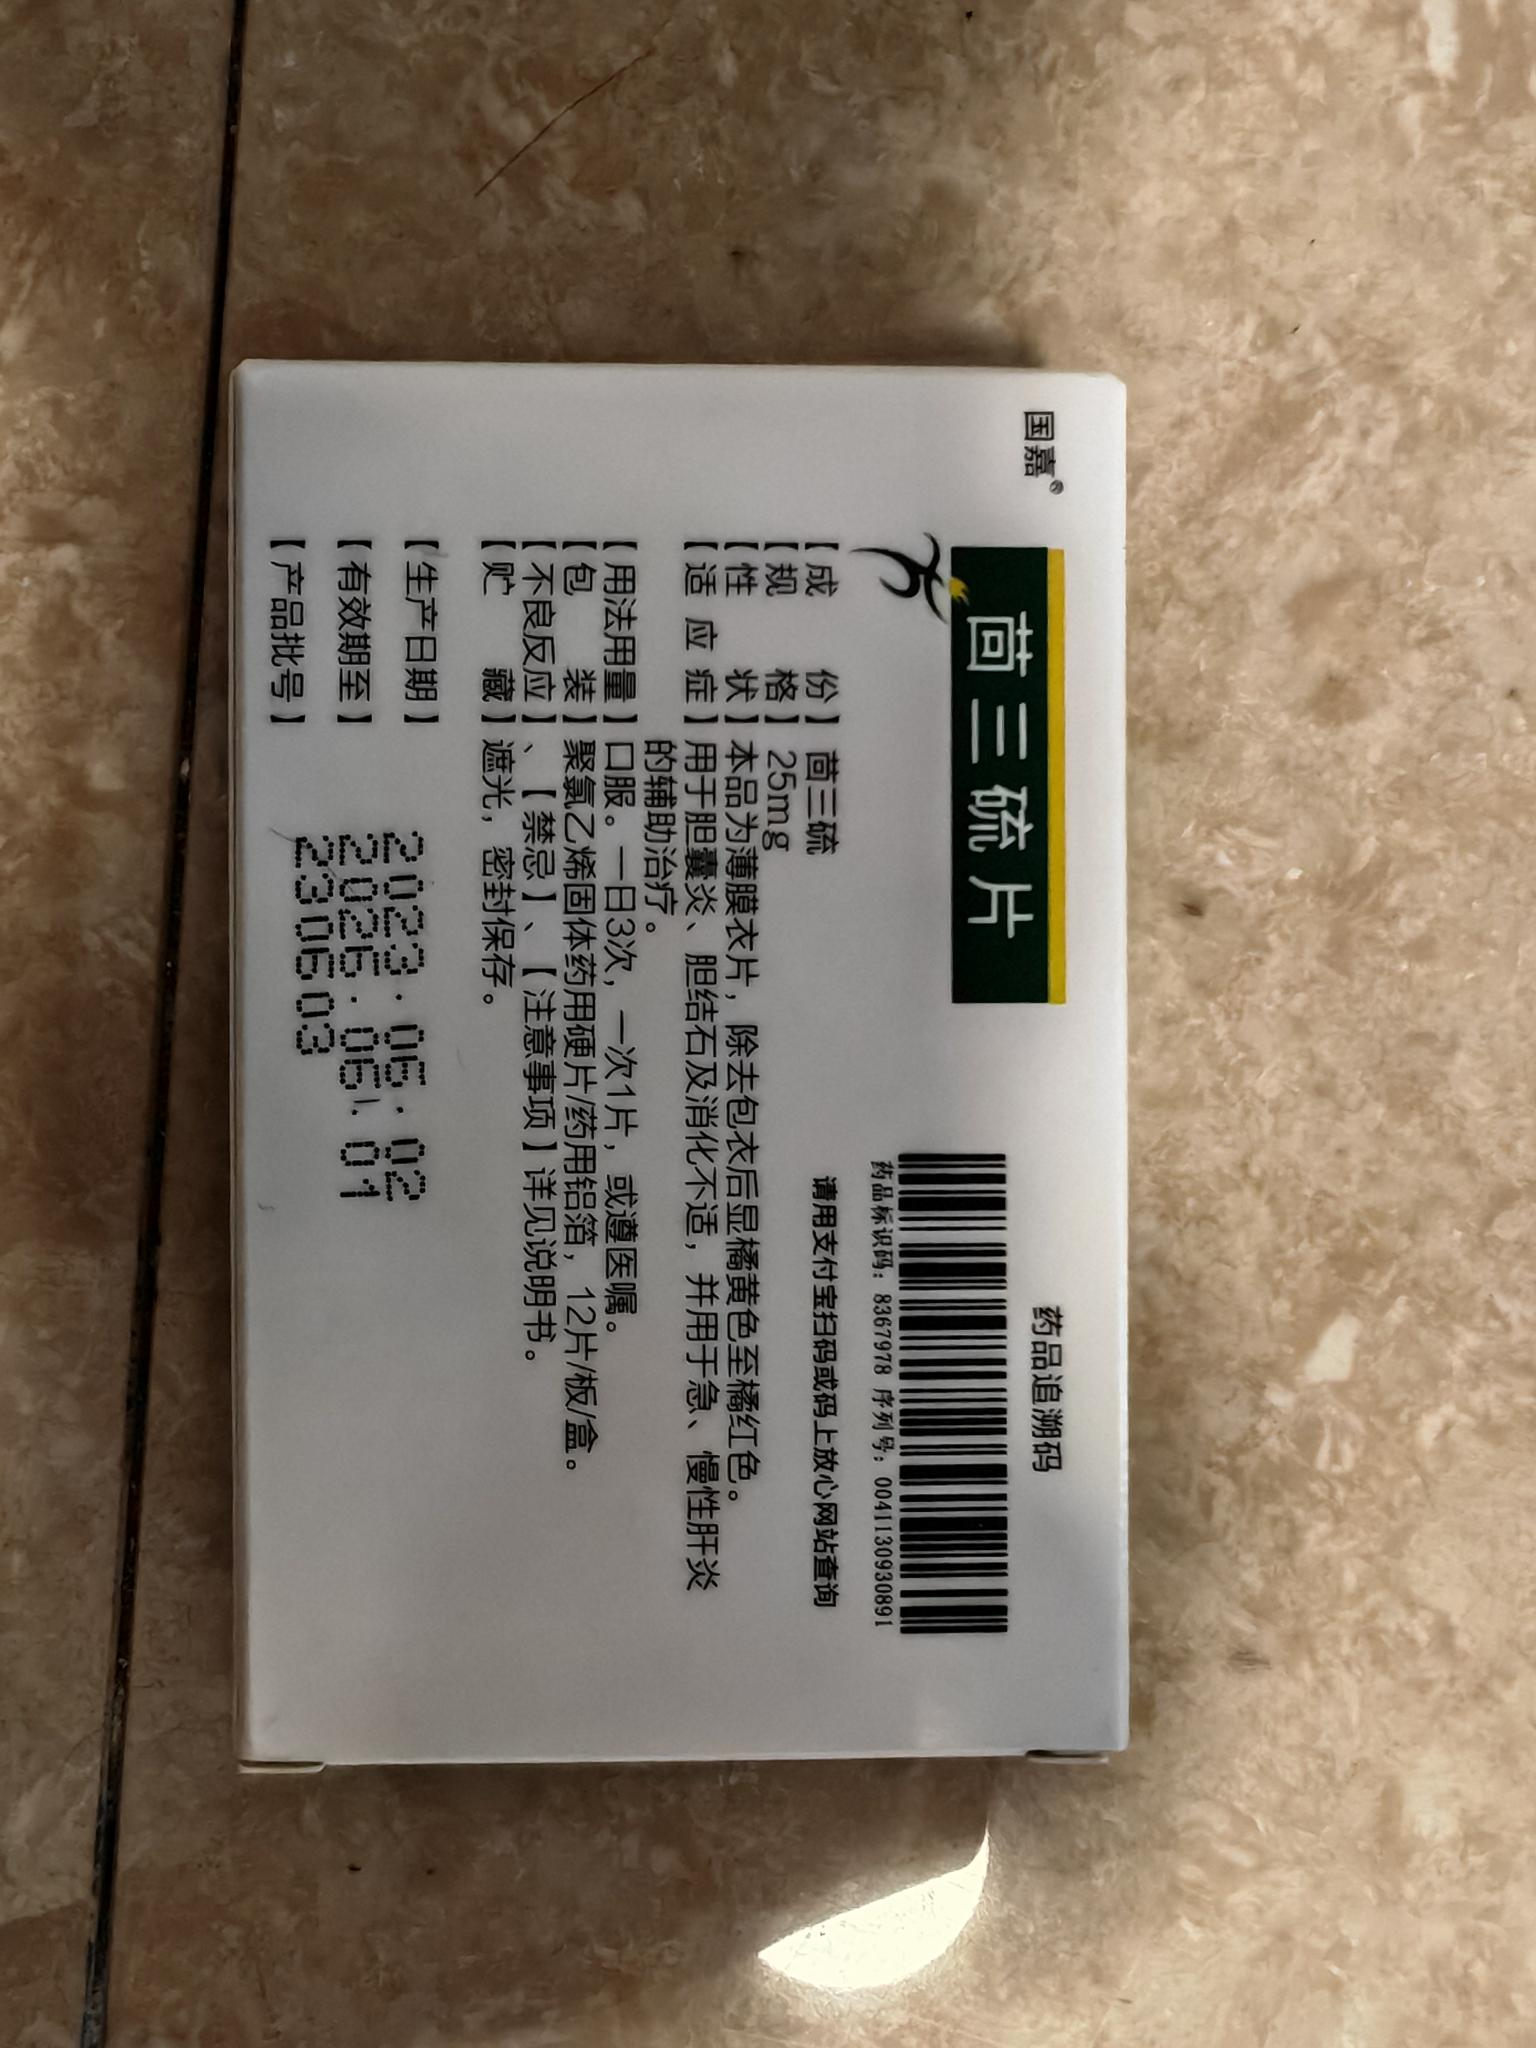Medicine4: (208, 326, 1160, 1793)
